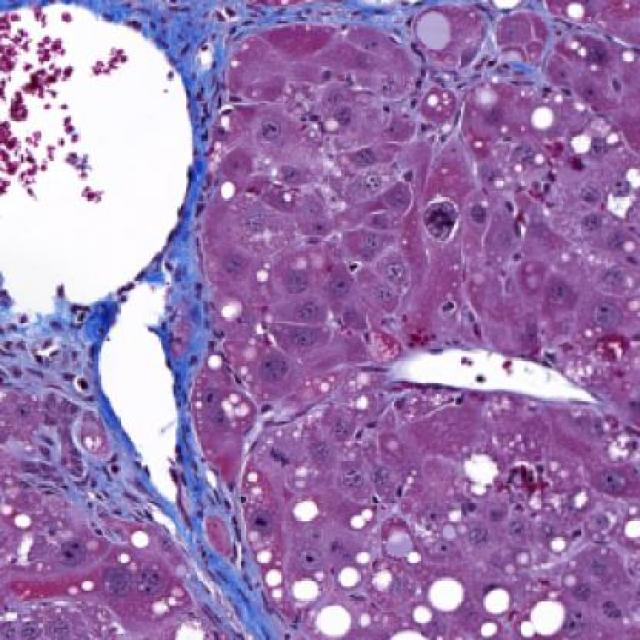fibrosis: (152, 337, 248, 583), (150, 4, 234, 278)
